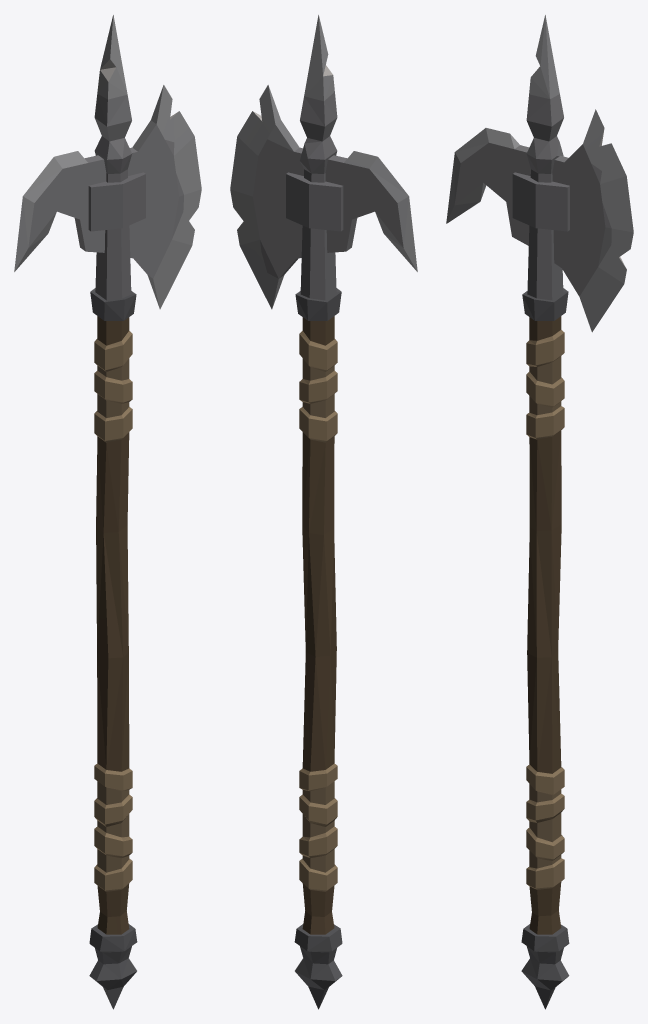
File: SM_Wep_Halberd_01.gltf
The picture shows the model from 3 angles, left to right: view 1: azimuth 30°, elevation 25°; view 2: azimuth 150°, elevation 25°; view 3: azimuth 330°, elevation 25°; orthographic projection.
Visible parts, largest first — view 1: SM_Wep_Halberd_01; view 2: SM_Wep_Halberd_01; view 3: SM_Wep_Halberd_01.
Part boxes in pixels (bbox=[...]): SM_Wep_Halberd_01: bbox=[14, 15, 201, 1009]; SM_Wep_Halberd_01: bbox=[230, 15, 417, 1009]; SM_Wep_Halberd_01: bbox=[446, 15, 633, 1009].
Bounding box in the file's own units: 0.4009 × 2.03 × 0.084.
Materials: 1 (1 with a texture image).
